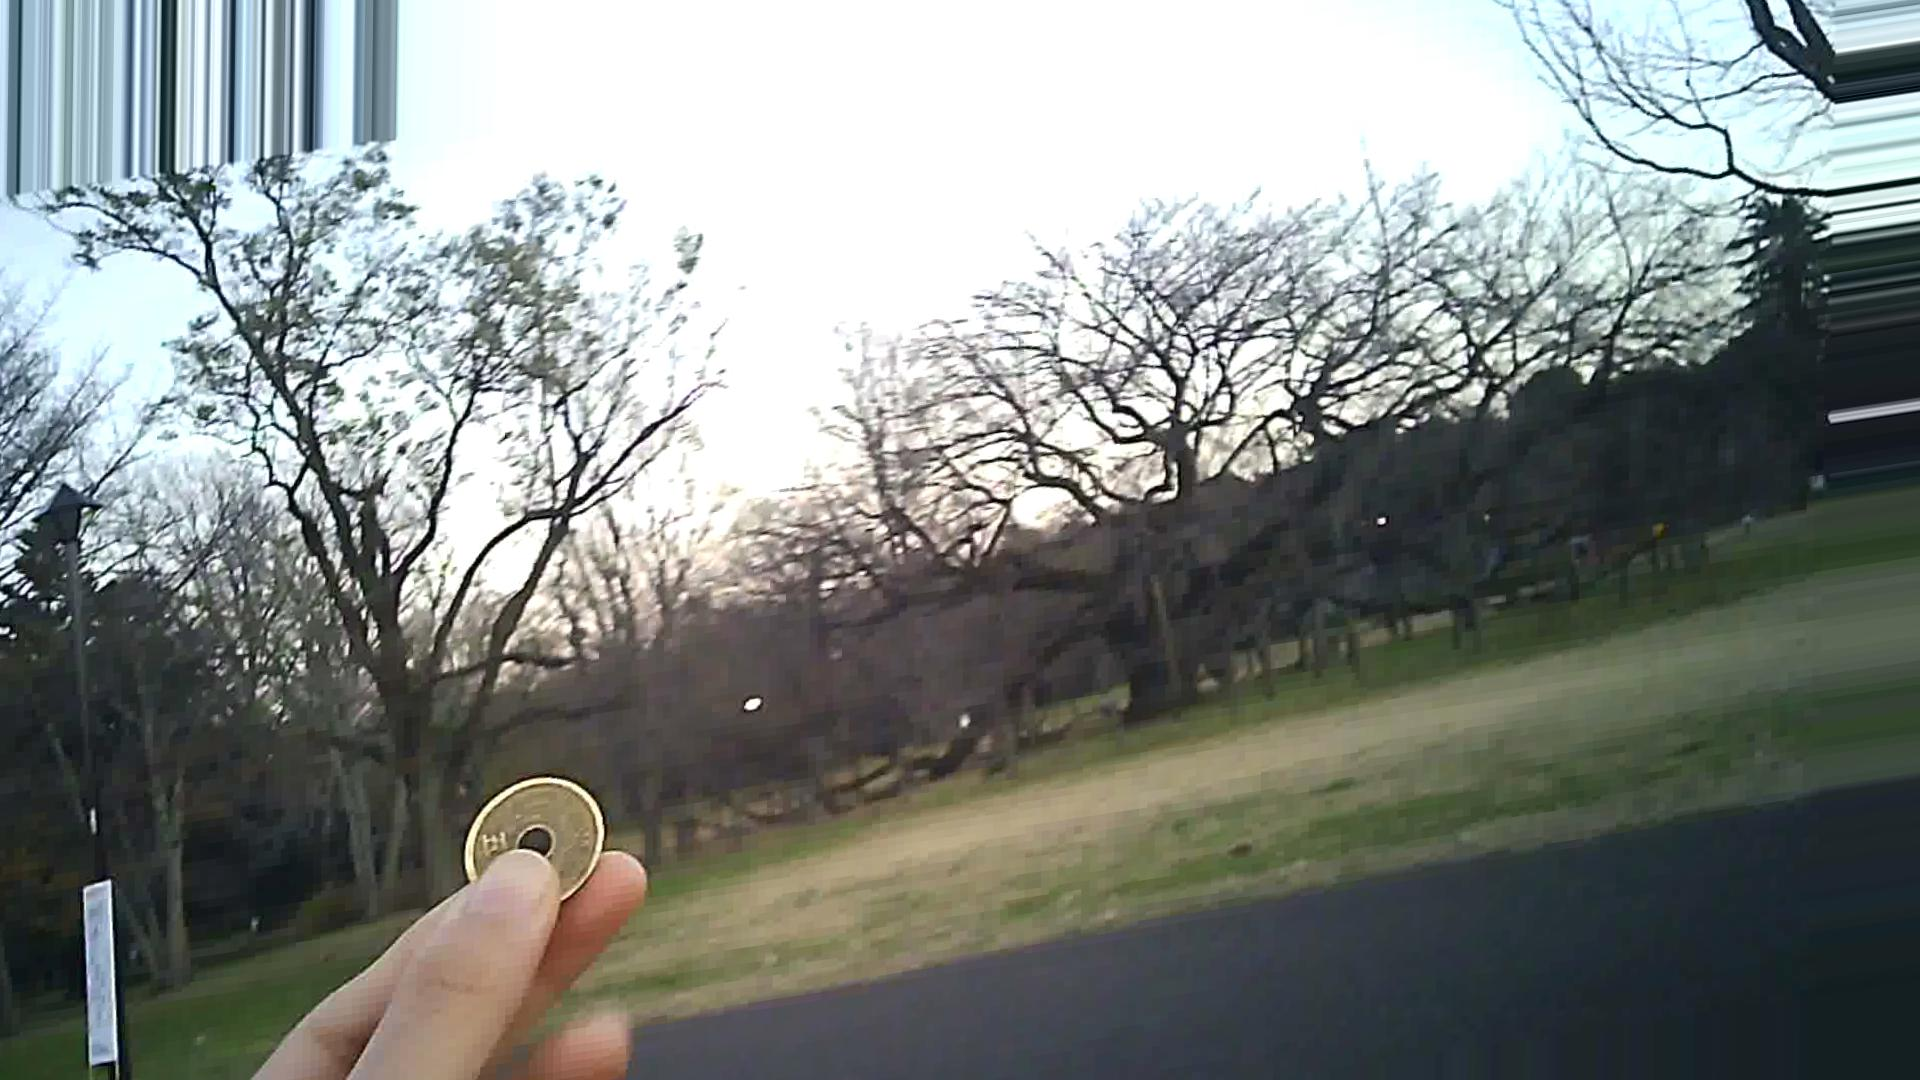5 Yen: (448, 771, 613, 916)
